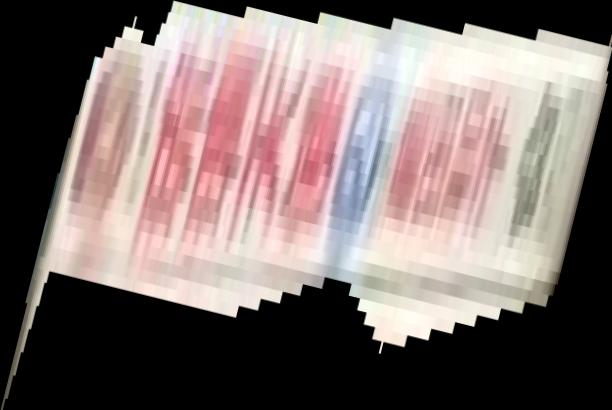flat: (1, 1, 612, 410)
